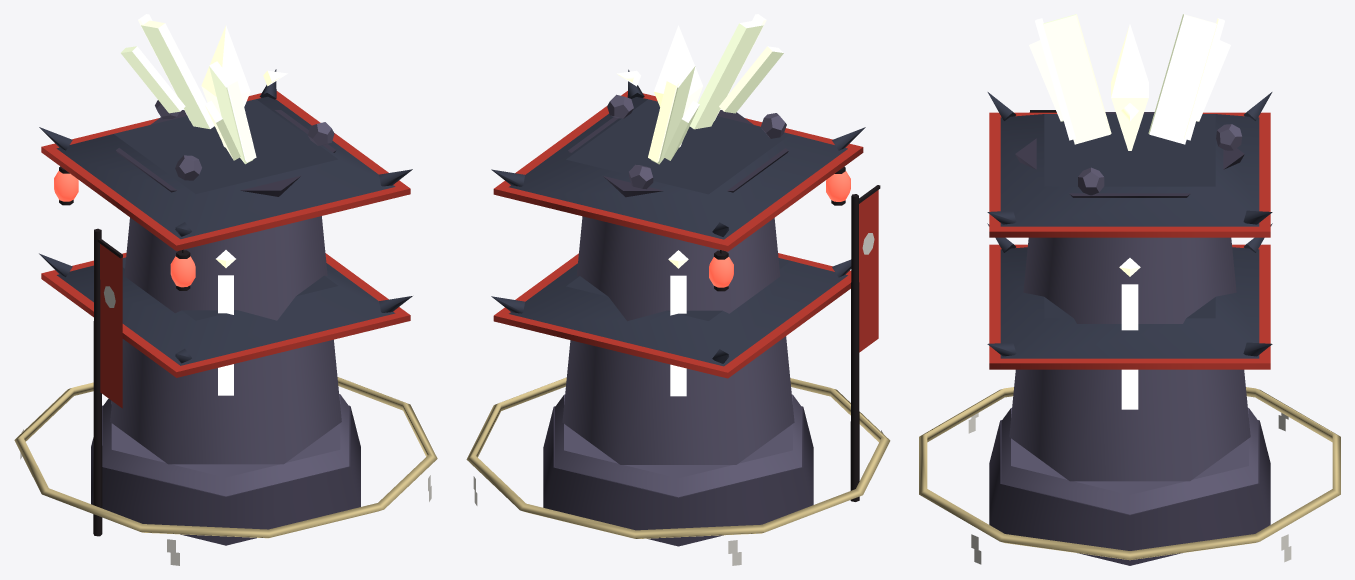
Rendered from tower_element_elementWind.glb.
The picture shows the model from 3 angles, left to right: view 1: azimuth 30°, elevation 25°; view 2: azimuth 150°, elevation 25°; view 3: azimuth 270°, elevation 25°; orthographic projection. The views are drawn at different scales.
Parts seen in each view (by area): view 1: pillar, deco_eave_0_roof, base, deco_eave_1_roof, base_top, deco_shimenawa_rope, deco_eave_0_rim, deco_eave_1_rim, deco_nobori_cloth, wing_r_vane, deco_nobori_pole, crystal (+11 smaller); view 2: pillar, deco_eave_0_roof, deco_eave_1_roof, base, base_top, deco_shimenawa_rope, deco_eave_0_rim, deco_eave_1_rim, deco_nobori_cloth, wing_l_vane, deco_nobori_pole, crystal (+11 smaller); view 3: pillar, deco_eave_0_roof, deco_eave_1_roof, base, base_top, deco_shimenawa_rope, deco_eave_0_rim, deco_eave_1_rim, wing_l_vane, wing_r_vane, crystal, rune_0 (+8 smaller).
Part boxes in pixels (x1,y1,x2,y2): pillar: (110,216,341,464); deco_eave_0_roof: (56,96,395,239); base: (91,405,360,545); deco_eave_1_roof: (57,257,395,365); base_top: (102,394,349,496); deco_shimenawa_rope: (14,377,437,538); deco_eave_0_rim: (41,91,410,251); deco_eave_1_rim: (41,252,410,377); deco_nobori_cloth: (100,244,122,408); wing_r_vane: (141,20,214,128); deco_nobori_pole: (93,228,102,536); crystal: (201,25,250,147); pillar: (562,216,794,464); deco_eave_0_roof: (509,97,847,239); deco_eave_1_roof: (509,258,847,366); base: (543,406,813,546); base_top: (555,394,801,497); deco_shimenawa_rope: (466,377,890,538); deco_eave_0_rim: (493,91,863,251); deco_eave_1_rim: (493,253,851,378); deco_nobori_cloth: (859,190,878,352); wing_l_vane: (690,20,763,129); deco_nobori_pole: (850,194,859,501); crystal: (654,25,702,147); pillar: (1009,237,1250,481); deco_eave_0_roof: (1000,114,1259,226); deco_eave_1_roof: (1000,247,1259,358); base: (989,420,1270,565); base_top: (1001,408,1258,514); deco_shimenawa_rope: (919,387,1340,560); deco_eave_0_rim: (989,112,1270,237); deco_eave_1_rim: (989,244,1270,369); wing_l_vane: (1043,14,1111,144); wing_r_vane: (1148,14,1216,144); crystal: (1111,24,1148,150); rune_0: (1121,284,1138,409).
Size of the model in its own units: 0.5326 by 0.628 by 0.5066.
